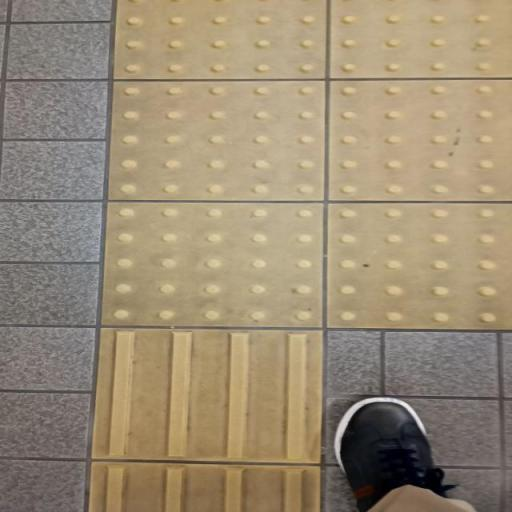dot: (99, 201, 323, 327), (107, 78, 329, 202), (324, 201, 511, 330), (324, 77, 511, 200), (111, 0, 329, 81), (331, 0, 511, 78)
line: (86, 325, 326, 463), (86, 460, 320, 511)
